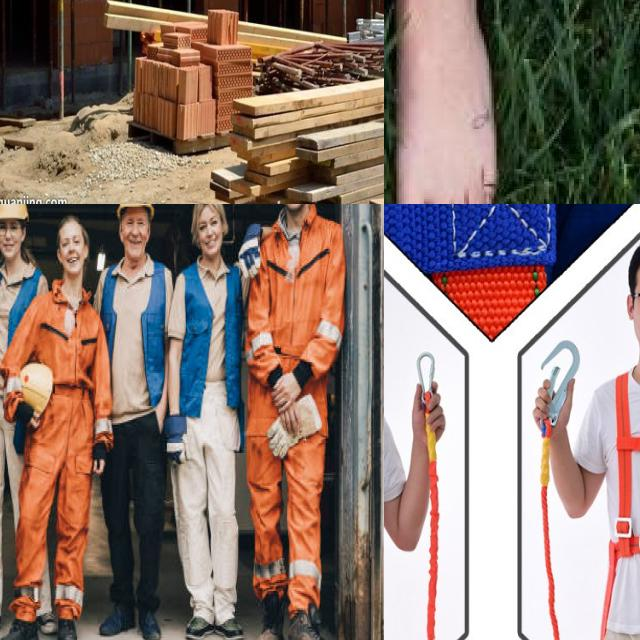Barefoots: (384, 0, 521, 204)
Harness: (605, 356, 640, 640)
No_Ear-Protection: (117, 223, 125, 243), (56, 248, 64, 264), (84, 240, 90, 260), (20, 225, 27, 242), (148, 223, 153, 243)
No_Glasses: (0, 224, 24, 236), (61, 238, 84, 250), (123, 218, 147, 228), (198, 220, 224, 229)
hand_noglove: (272, 372, 302, 433)
head_helmet: (116, 204, 153, 218), (0, 204, 29, 221)
head_nohelmet: (192, 204, 228, 247), (58, 214, 89, 255)
